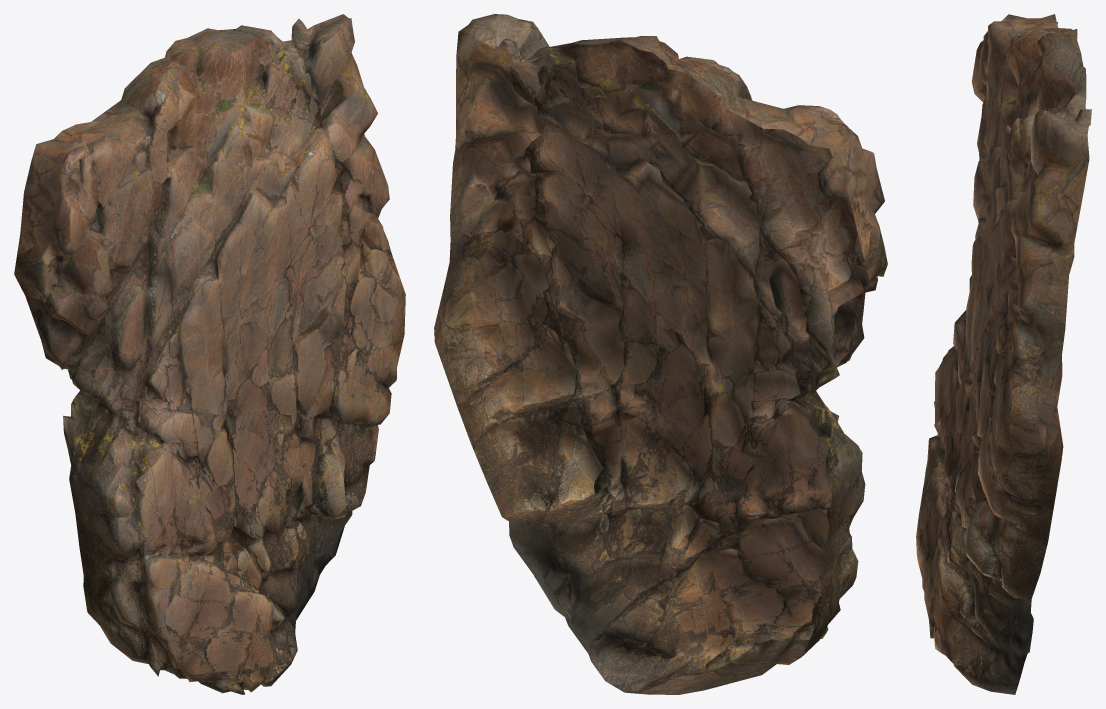
File: rock02.fbx
The picture shows the model from 3 angles, left to right: view 1: azimuth 30°, elevation 25°; view 2: azimuth 150°, elevation 25°; view 3: azimuth 270°, elevation 25°; orthographic projection. The views are drawn at different scales.
Visible parts, largest first — view 1: rock02; view 2: rock02; view 3: rock02.
Boxes of the visible parts, bbox=[...] form: rock02: bbox=[14, 14, 405, 694]; rock02: bbox=[434, 14, 887, 694]; rock02: bbox=[916, 14, 1091, 694].
Size of the model in its own units: 986 by 1524 by 379.
